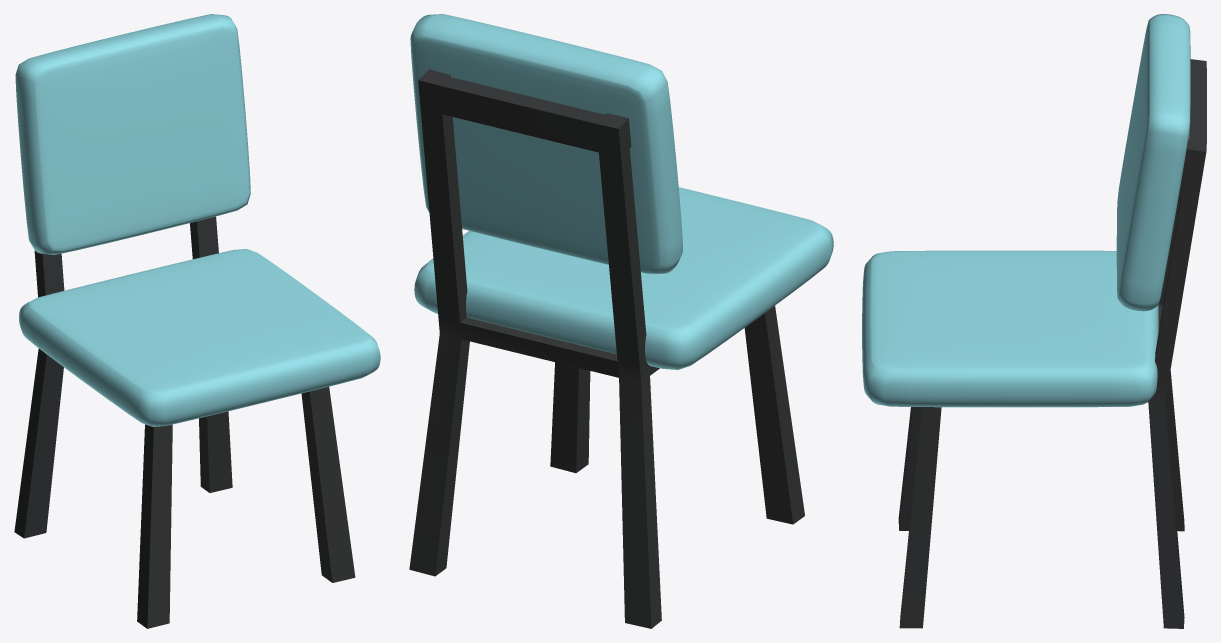
File: LobbyDeskChair.fbx
3 renders of one model, left to right at view 1: azimuth 30°, elevation 25°; view 2: azimuth 150°, elevation 25°; view 3: azimuth 270°, elevation 25°, orthographic. The views are drawn at different scales.
Parts seen in each view (by area): view 1: DeskChair; view 2: DeskChair; view 3: DeskChair.
Boxes of the visible parts, x1=… form: DeskChair: x1=14, y1=14, x2=380, y2=628; DeskChair: x1=409, y1=14, x2=833, y2=628; DeskChair: x1=862, y1=14, x2=1206, y2=628.
Bounding box in the file's own units: 13.8 × 25.83 × 15.79.
